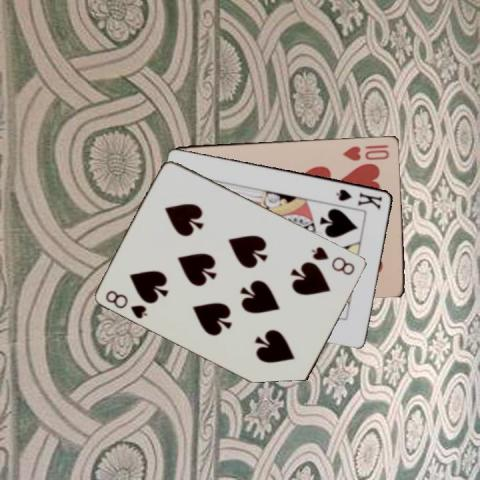10h: (339, 141, 391, 162)
8s: (308, 243, 357, 277), (103, 287, 149, 320)
Ks: (333, 186, 384, 211)
